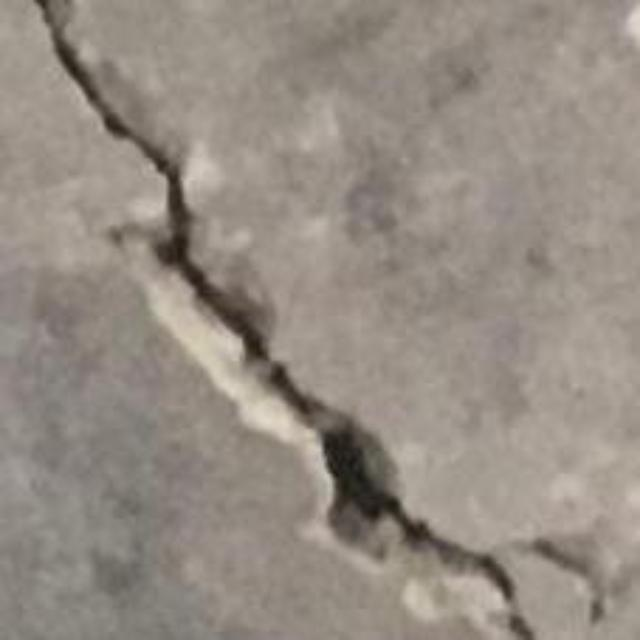crack: (34, 0, 535, 639)
